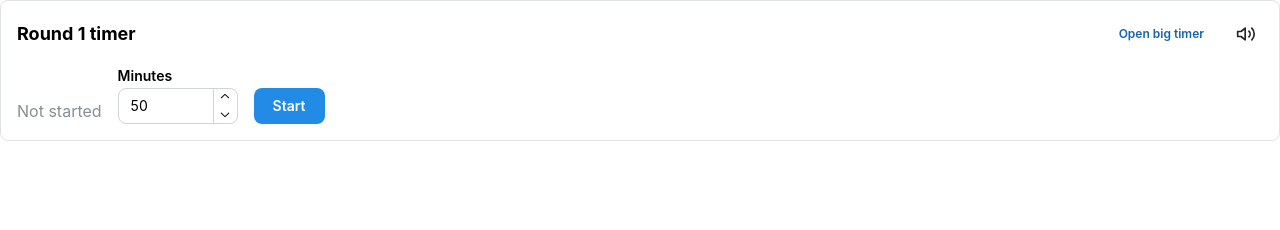
Test case: RoundTimer › pauses and resumes from the same value
Step 1. Replace the text in the field labelled "Minutes" with "1" → (178, 106), box [118,88,238,124]
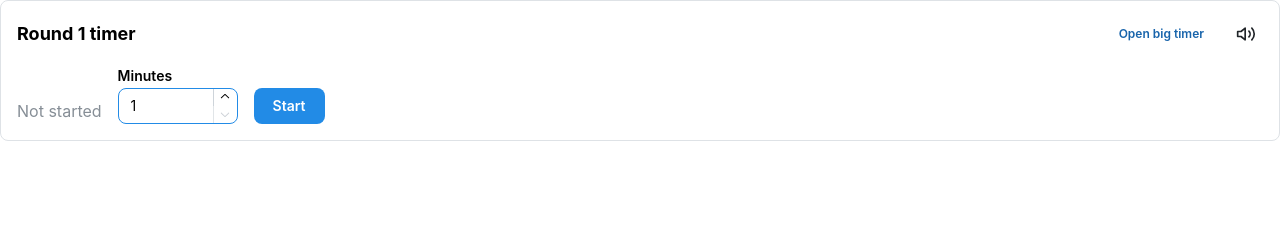
Step 2. Click the button "Start" → (289, 106), box [254,88,324,124]
Wait 15000 ms
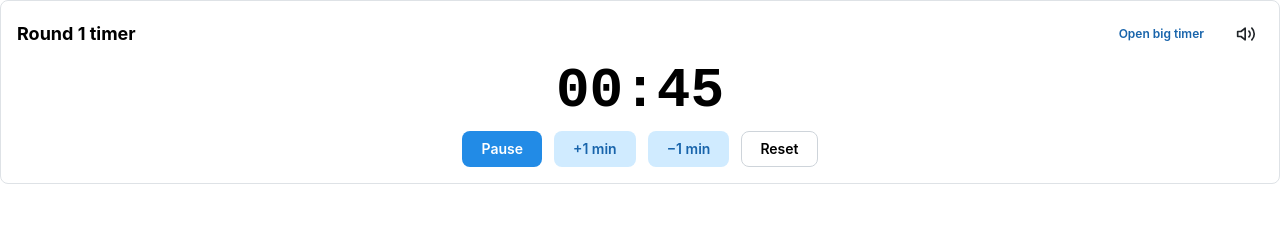
Step 3. Click the button "Pause" → (502, 149), box [462,131,542,167]
Wait 60000 ms
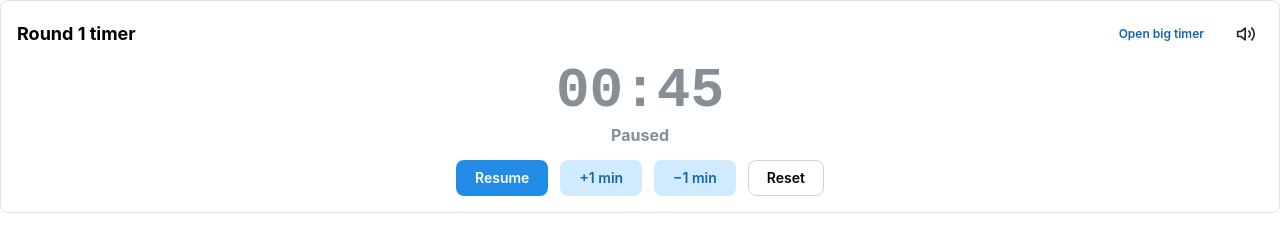
expect the text "Paused" is shown: met, box [611,123,669,148]
Step 4. Click the button "Resume" → (502, 178), box [456,160,548,196]
Wait 5000 ms
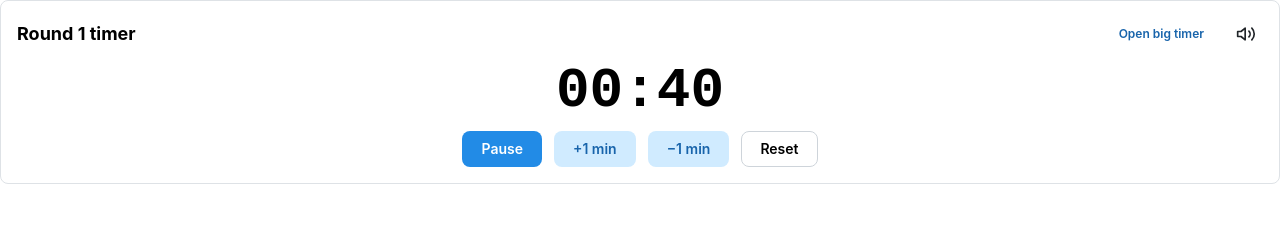
expect the text "Paused" is gone: met
